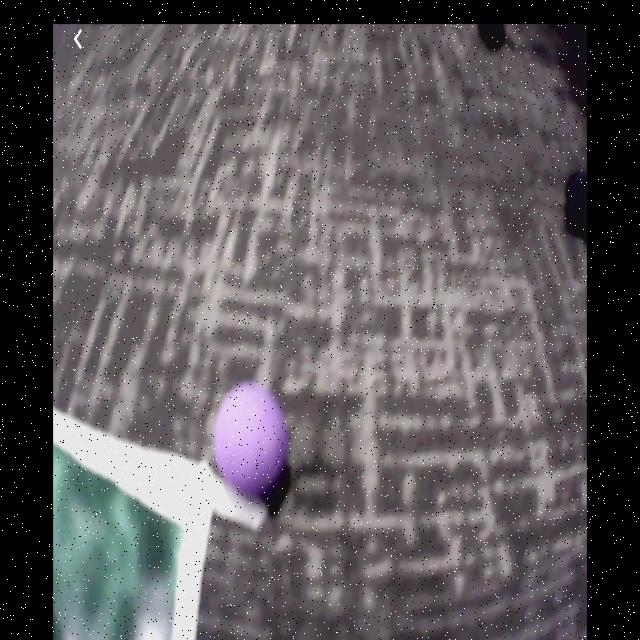ball: (213, 380, 291, 503)
